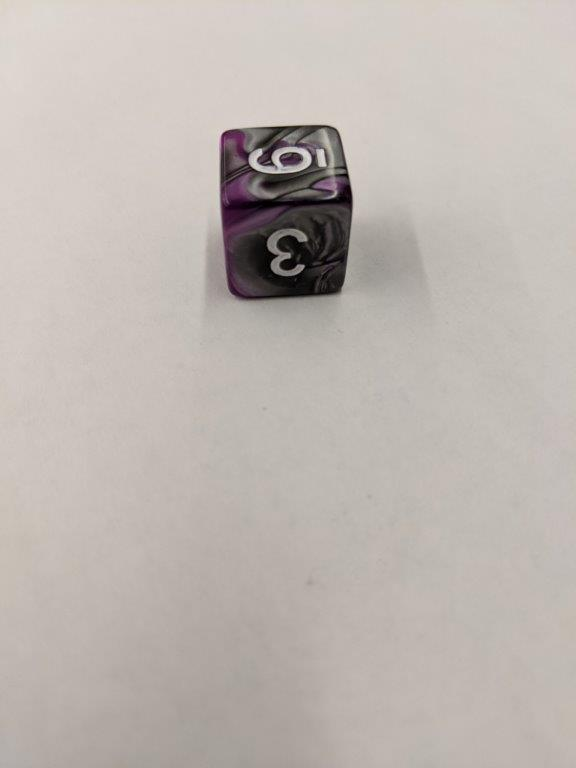d6-6: (219, 122, 354, 306)
